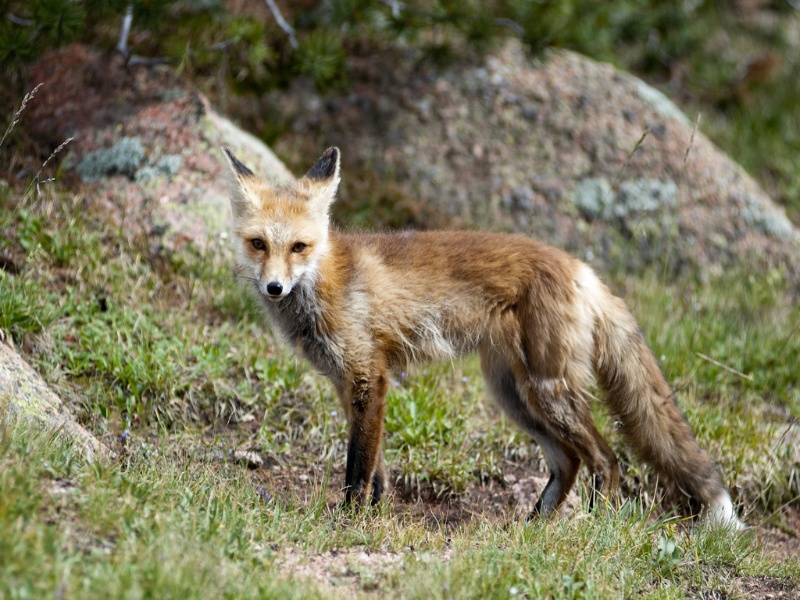fox: (218, 143, 751, 539)
